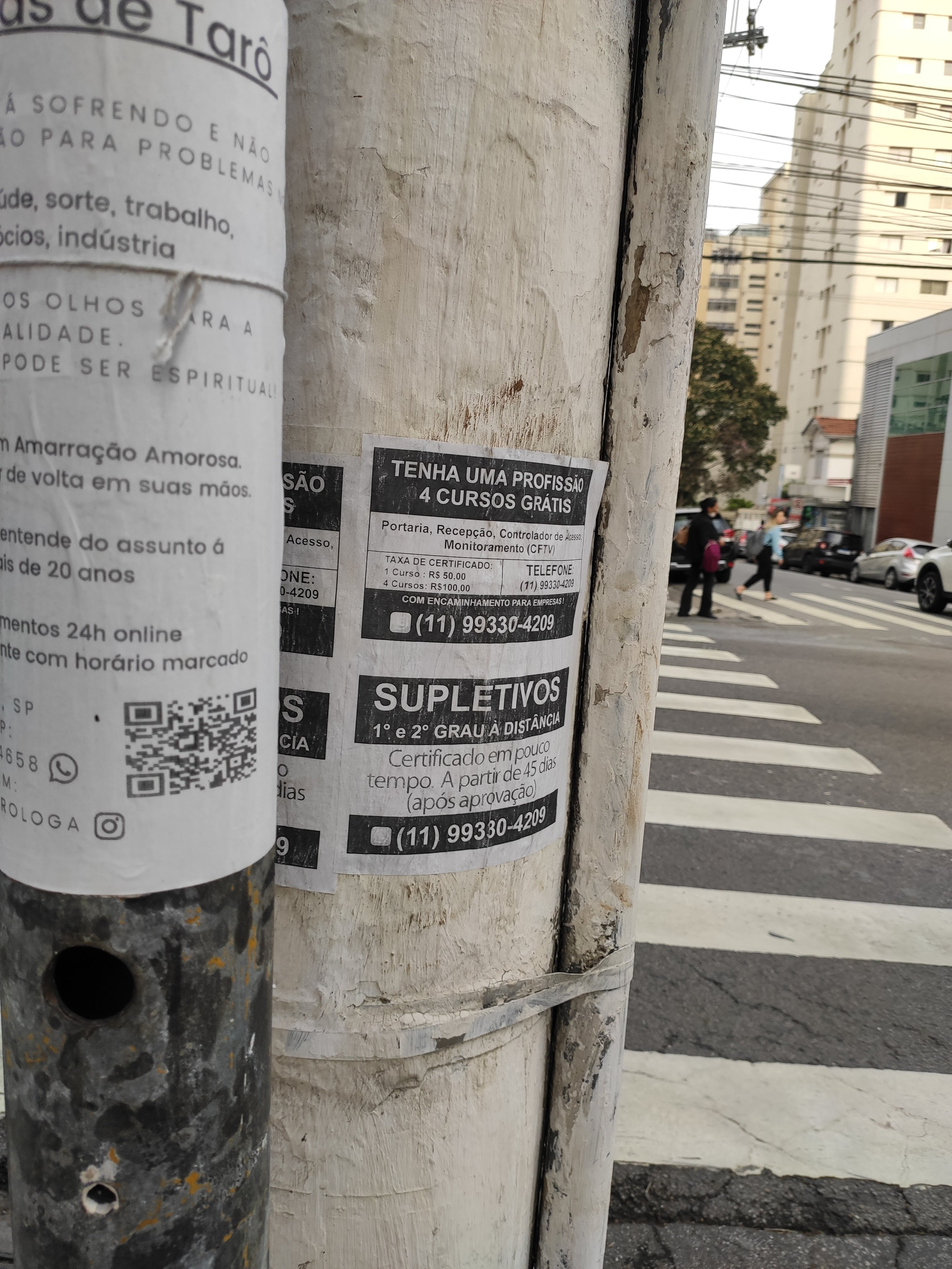QR-CODE: (124, 687, 256, 796)
